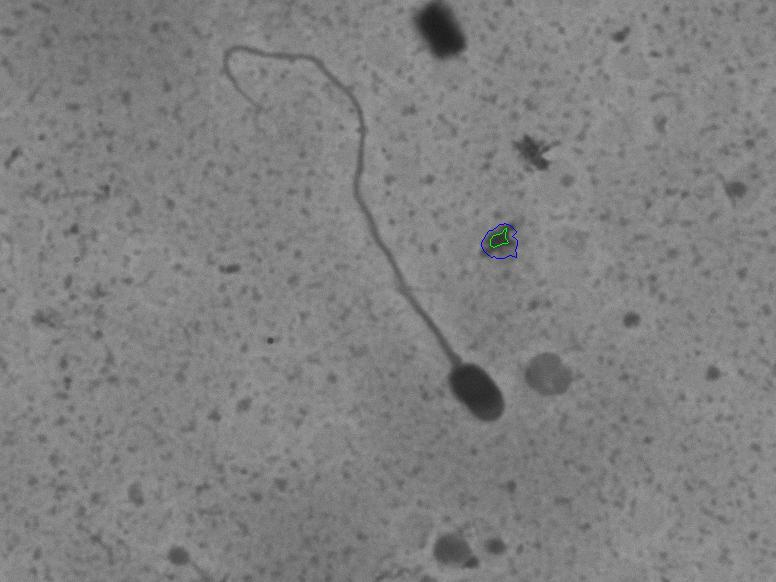Abnormal: (194, 35, 514, 457)
